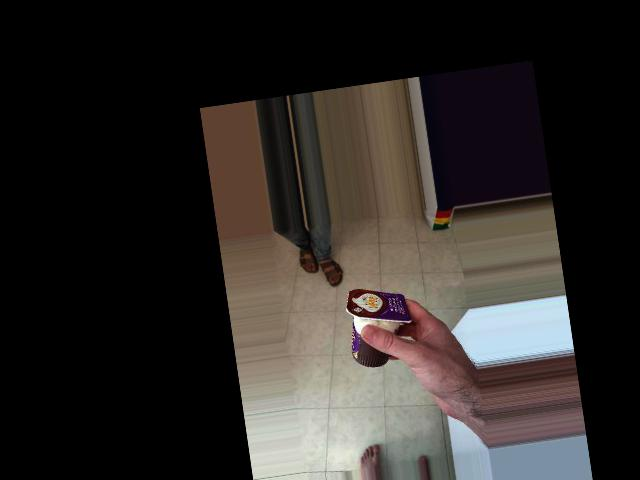milky: (301, 276, 400, 348)
